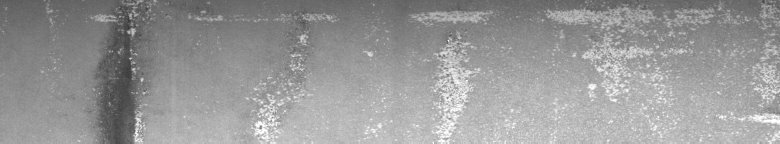hc: (47, 4, 222, 136)
